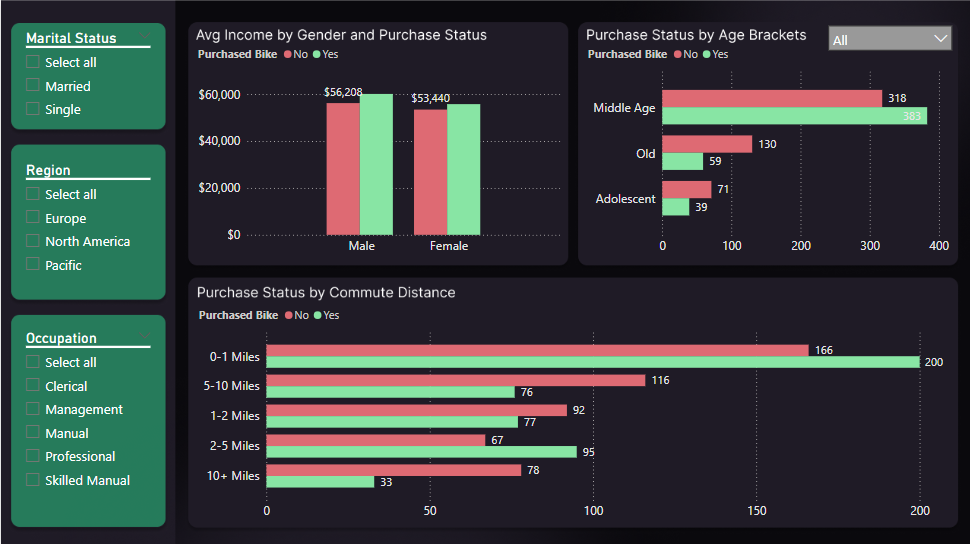

The page's visual inventory and layout, read from the dashboard file:
{"tool":"powerbi","page":{"name":"Main","canvas":[1280,720],"ordinal":0},"visuals":[{"type":"clusteredColumnChart","title":"Avg Income by Gender and Purchase Status","fields":{"Category":["bike_buyers.Gender"],"Y":["bike_buyers.Avg Income"],"Series":["bike_buyers.Purchased Bike"]},"box":[253.3,50,490,293.3],"z":0},{"type":"clusteredBarChart","title":"Purchased Status by Age Brackets","fields":{"Category":["bike_buyers.Age Brackets"],"Series":["bike_buyers.Purchased Bike"],"Y":["bike_buyers.Customer Count"]},"box":[766.7,50,500,293.3],"z":1000},{"type":"slicer","fields":{"Values":["bike_buyers.Age Brackets"]},"box":[1081.7,26.7,176.7,66.7],"z":2000},{"type":"clusteredBarChart","title":"Purchased Status by Commute Distance","fields":{"Category":["bike_buyers.Commute Distance"],"Y":["bike_buyers.Customer Count"],"Series":["bike_buyers.Purchased Bike"]},"box":[255.7,393.8,1002.1,298.3],"z":3000},{"type":"slicer","fields":{"Values":["bike_buyers.Martiel Status"]},"box":[20,32.9,190,130],"z":4000},{"type":"slicer","fields":{"Values":["bike_buyers.Region"]},"box":[20,207.1,190,164.3],"z":5000},{"type":"slicer","fields":{"Values":["bike_buyers.Occupation"]},"box":[20,427.1,190,257.1],"z":6000}]}

Visuals, with their boxes in screenshot pixels (x1, y1, x2, y2), scaled from the page's 1280x720 canvas onto the 970x544 screenshot:
"Avg Income by Gender and Purchase Status" clusteredColumnChart: <box>192,38,563,259</box>
"Purchased Status by Age Brackets" clusteredBarChart: <box>581,38,960,259</box>
slicer - bike_buyers.Age Brackets: <box>820,20,954,71</box>
"Purchased Status by Commute Distance" clusteredBarChart: <box>194,298,953,523</box>
slicer - bike_buyers.Martiel Status: <box>15,25,159,123</box>
slicer - bike_buyers.Region: <box>15,156,159,281</box>
slicer - bike_buyers.Occupation: <box>15,323,159,517</box>
